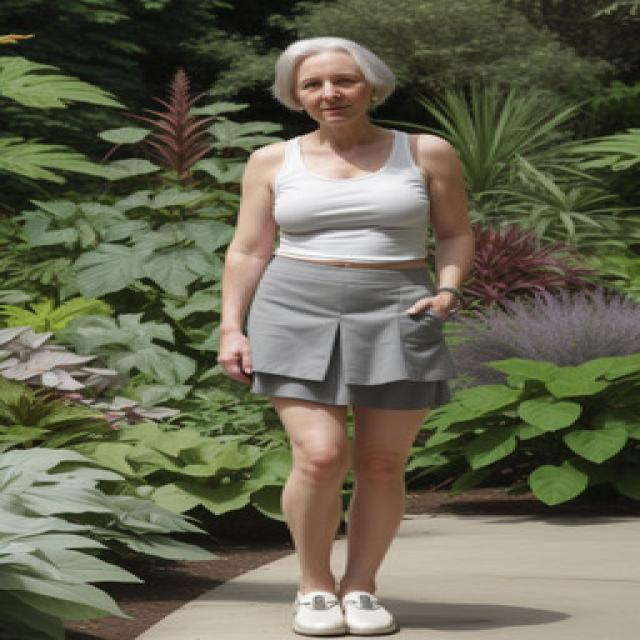Ai human 2: (209, 21, 492, 640)
